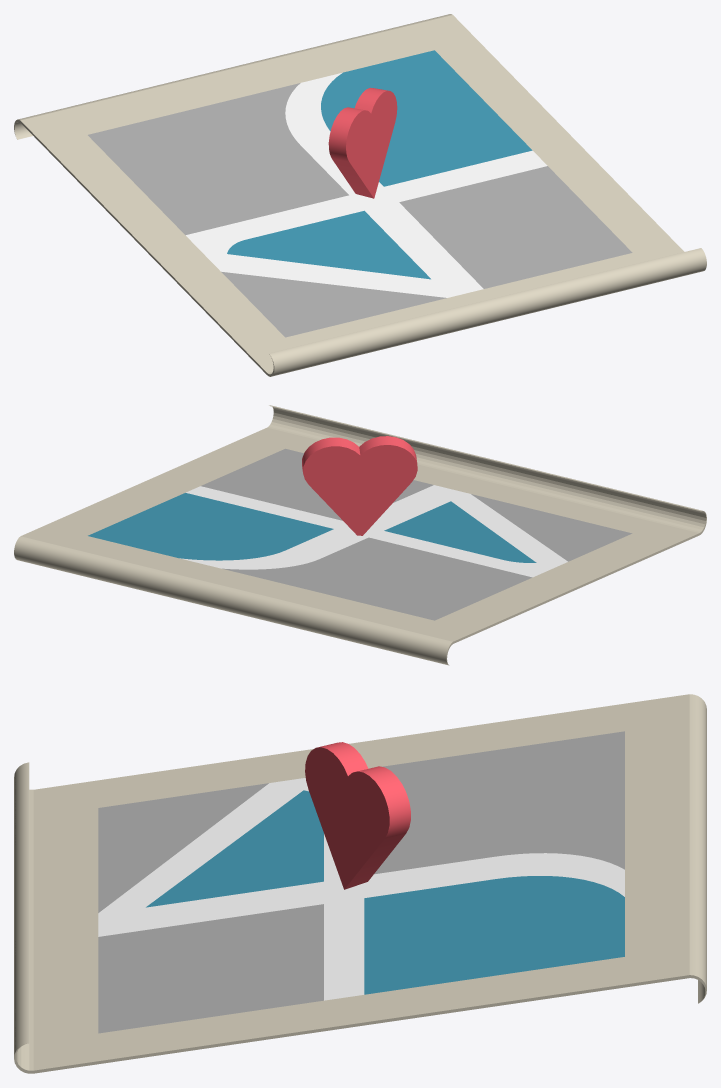
The model's file is StoryMap.dae.
3 renders of one model, top to bottom at view 1: azimuth 30°, elevation 25°; view 2: azimuth 150°, elevation 25°; view 3: azimuth 270°, elevation 25°, orthographic. The views are drawn at different scales.
Parts seen in each view (by area): view 1: map; view 2: map; view 3: map.
Boxes of the visible parts, x1=… form: map: x1=14, y1=14, x2=706, y2=376; map: x1=14, y1=405, x2=706, y2=665; map: x1=14, y1=694, x2=706, y2=1073.
Size of the model in its own units: 78.74 by 82.1 by 22.81.
